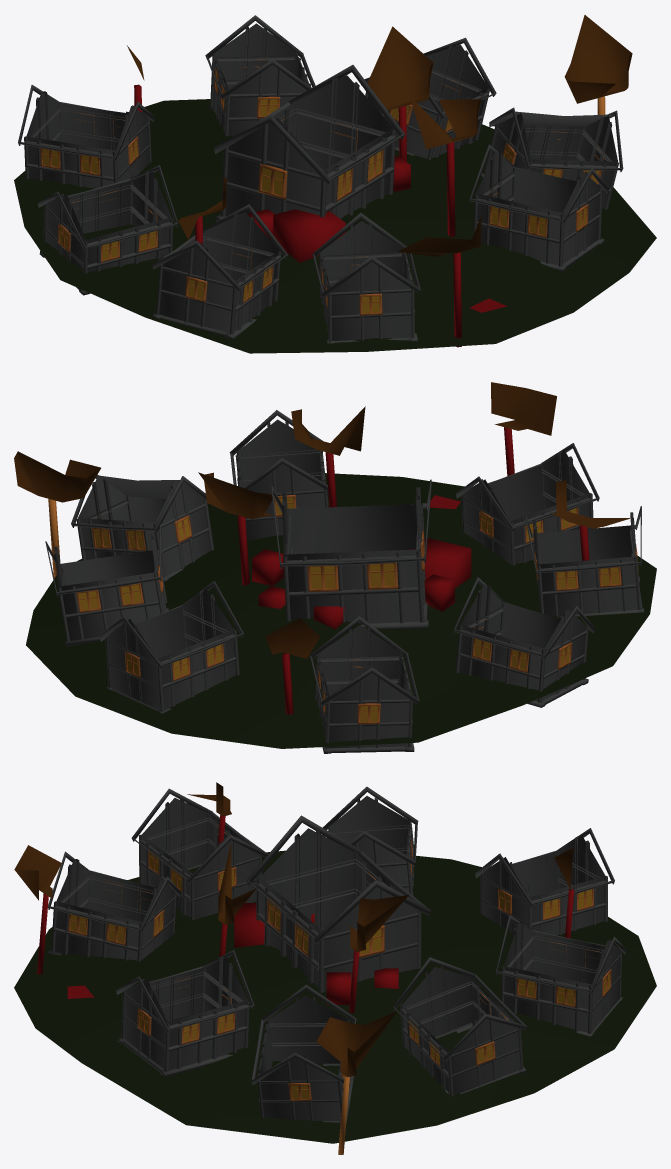
Rendered from Ruins.glb.
3 views of the same model, one above another, from view 1: azimuth 30°, elevation 25°; view 2: azimuth 150°, elevation 25°; view 3: azimuth 270°, elevation 25° (orthographic). The views are drawn at different scales.
Visible parts, largest first — view 1: City European 0; view 2: City European 0; view 3: City European 0.
Part boxes in pixels (box(x1,y1,x2,y2)): City European 0: box(14, 15, 656, 353); City European 0: box(14, 382, 656, 753); City European 0: box(14, 782, 656, 1154).
Bounding box in the file's own units: 2.53 × 0.8183 × 2.47.
